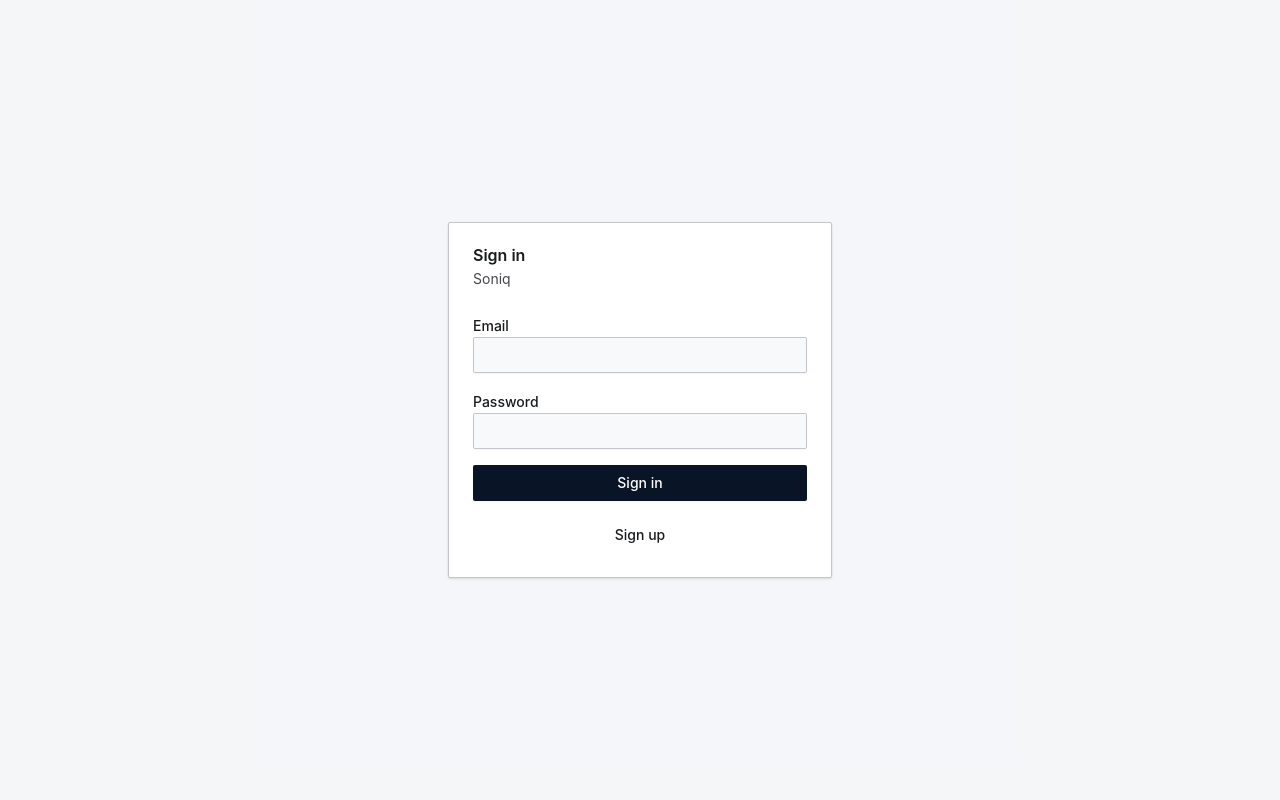
Test: App workspace recording flow › shows login when the session is missing and loads the workspace after login
This screenshot has width=1280, height=800.
Expected: the heading "Sign in" is shown, [473,245,525,265]
Expected: the button "Sign in" is enabled, [473,465,807,501]
Type "owner@local.soniq" into the field labelled "Email" at point(640, 355), box [473,337,807,373]
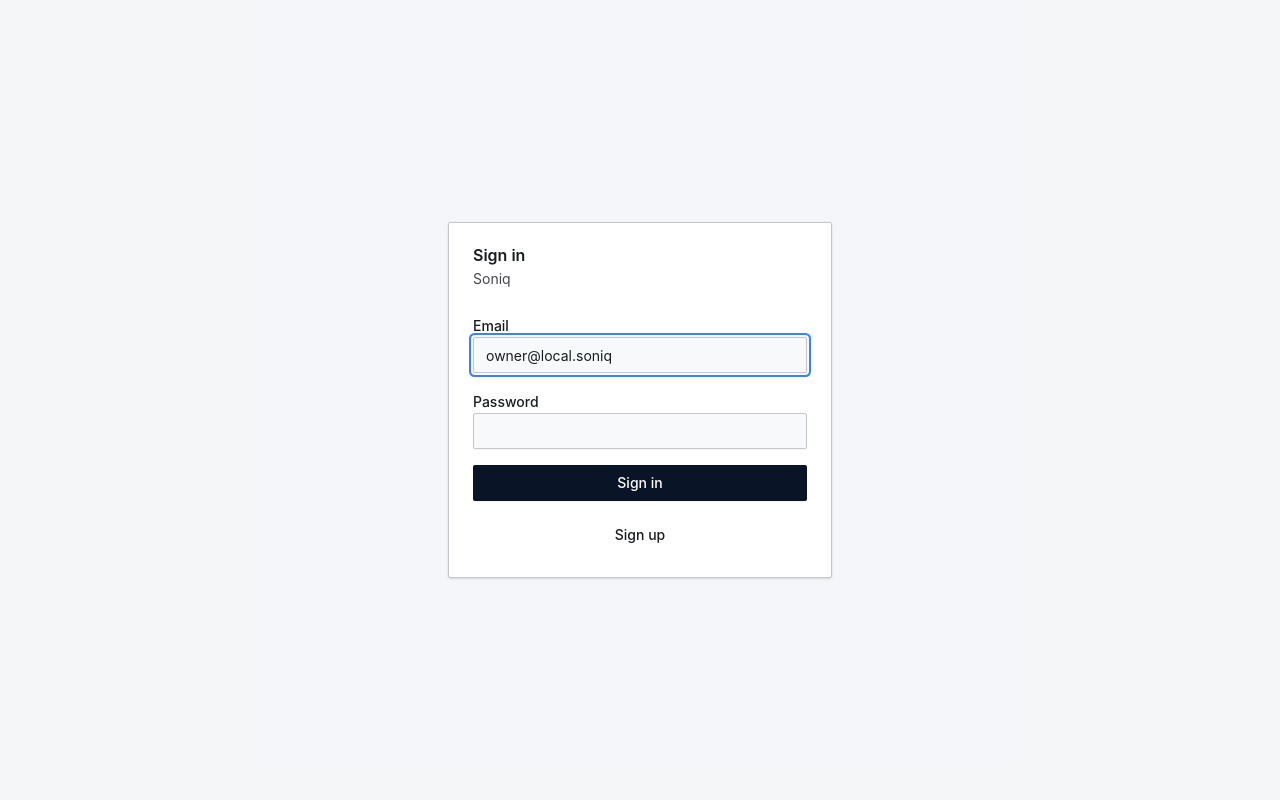
Type "correct horse" into the password field labelled "Password" at point(640, 431), box [473,413,807,449]
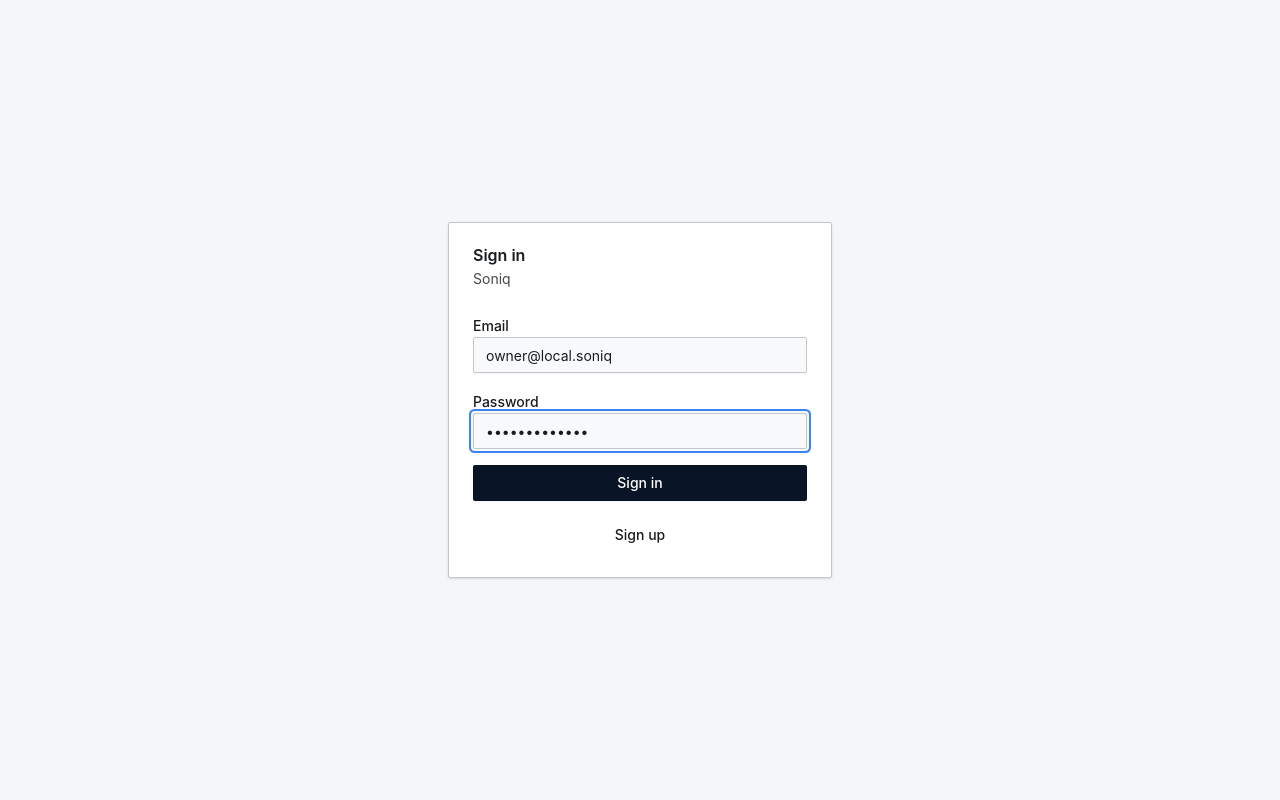
Click the button "Sign in" at point(640, 483), box [473,465,807,501]
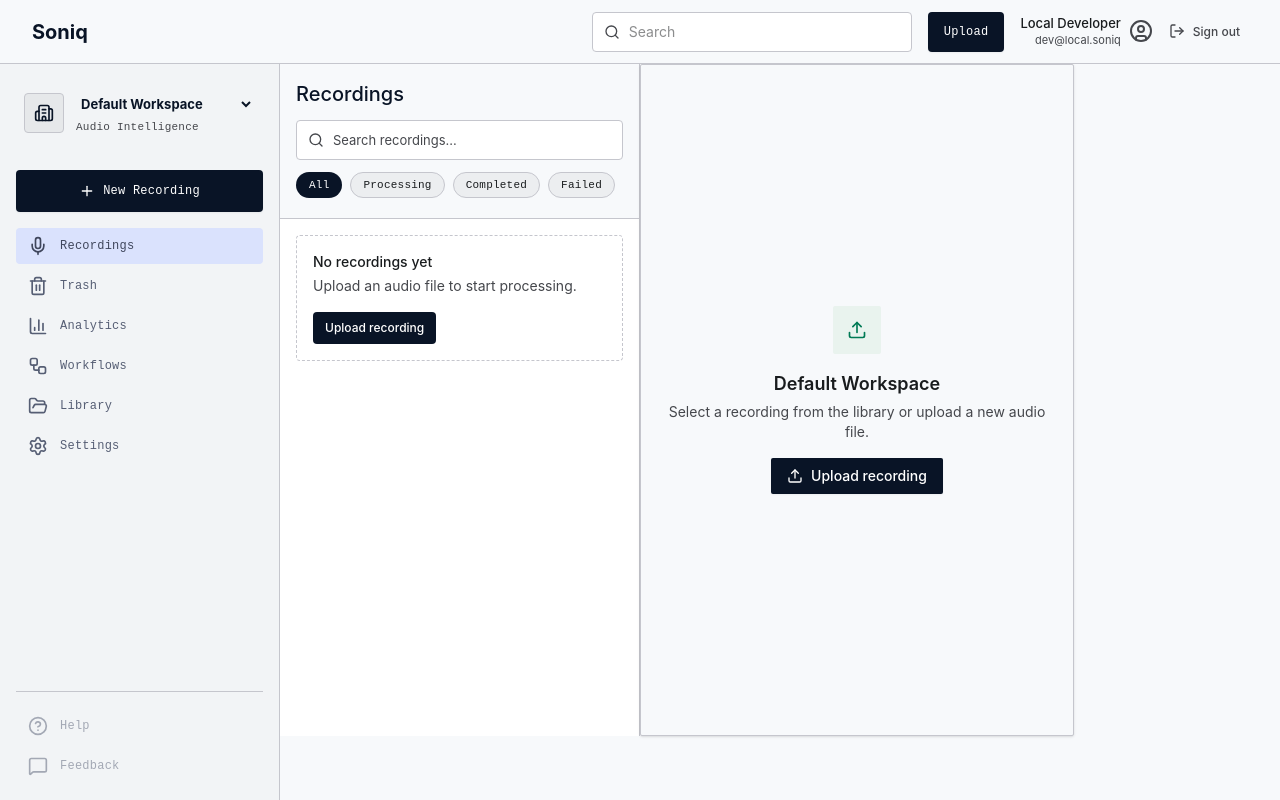
Now the text "Local Developer" is shown, box [1020,14,1121,33]
